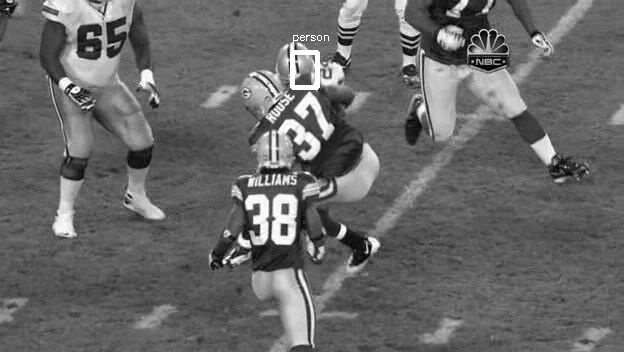person: (279, 44, 311, 85), (278, 44, 310, 85), (280, 44, 312, 85), (279, 43, 311, 84), (279, 45, 311, 86)
target_negative: (110, 90, 478, 325), (15, 122, 323, 241), (370, 68, 514, 258), (473, 105, 591, 273), (605, 213, 620, 338)
